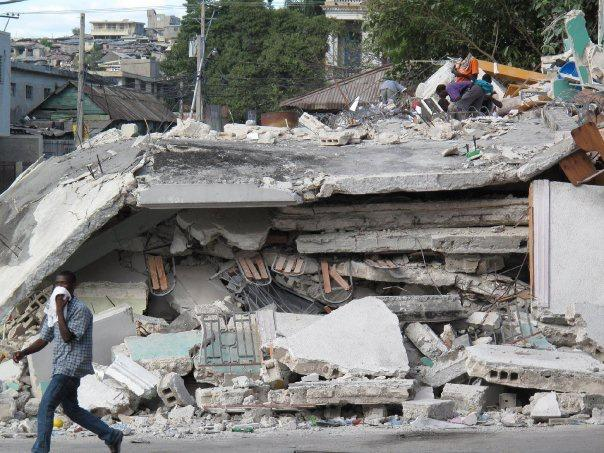victim: (6, 269, 125, 453)
